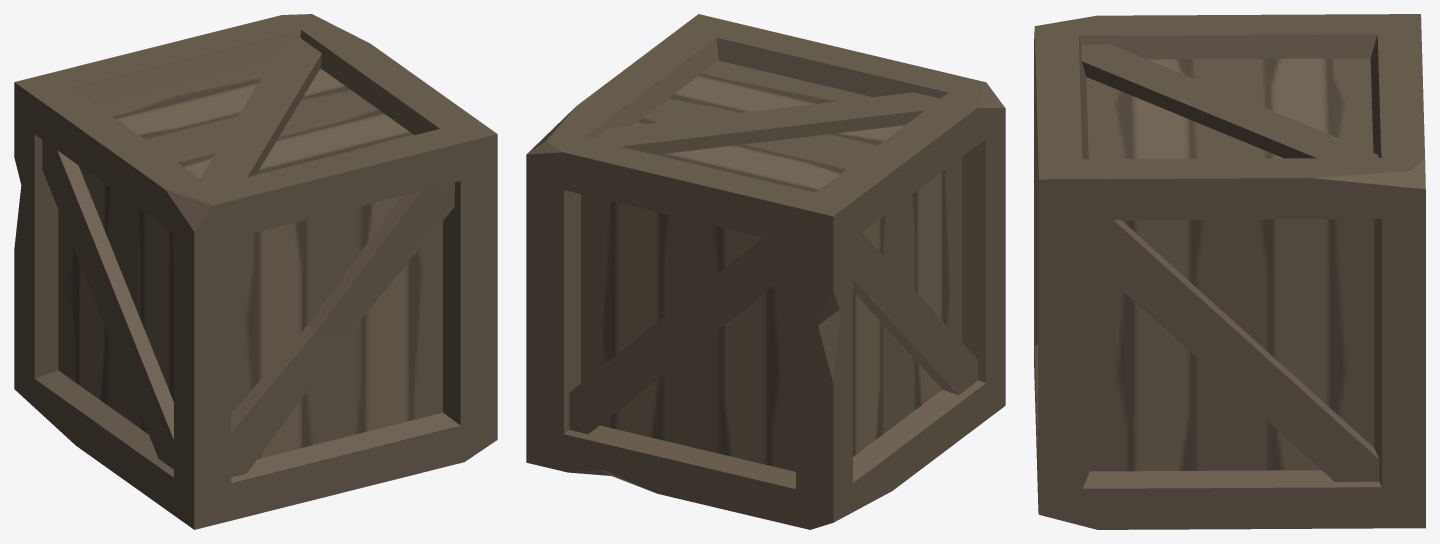
Rendered from SM_Prop_Crate_Cube_01.fbx.
3 views of the same model, side by side, from view 1: azimuth 30°, elevation 25°; view 2: azimuth 150°, elevation 25°; view 3: azimuth 270°, elevation 25° (orthographic). The views are drawn at different scales.
Parts seen in each view (by area): view 1: SM_Prop_Crate_Cube_01; view 2: SM_Prop_Crate_Cube_01; view 3: SM_Prop_Crate_Cube_01.
Part boxes in pixels (box(x1,y1,x2,y2)): SM_Prop_Crate_Cube_01: box(14, 14, 497, 529); SM_Prop_Crate_Cube_01: box(526, 14, 1005, 529); SM_Prop_Crate_Cube_01: box(1034, 14, 1425, 529).
Size of the model in its own units: 82.83 by 81.83 by 82.84.
